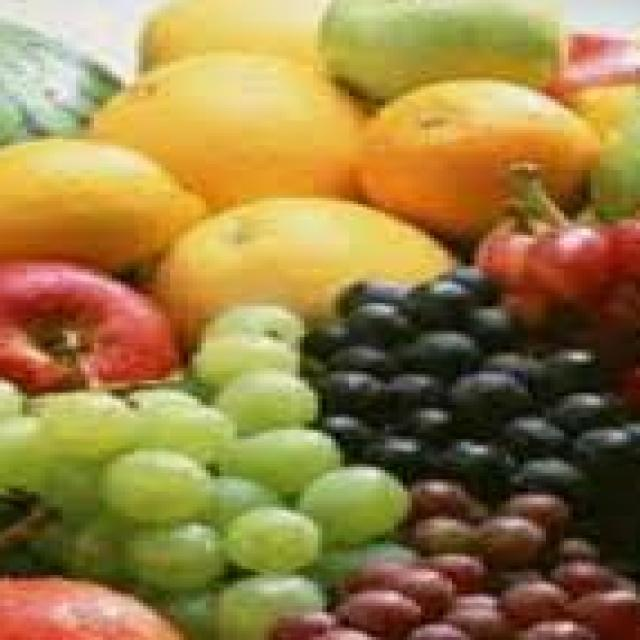inorganic: (14, 362, 631, 631), (155, 190, 470, 377), (357, 68, 583, 281), (73, 67, 361, 232), (449, 140, 627, 401), (0, 121, 211, 276), (131, 4, 361, 127), (320, 10, 579, 115), (3, 250, 166, 407), (0, 10, 149, 161)
